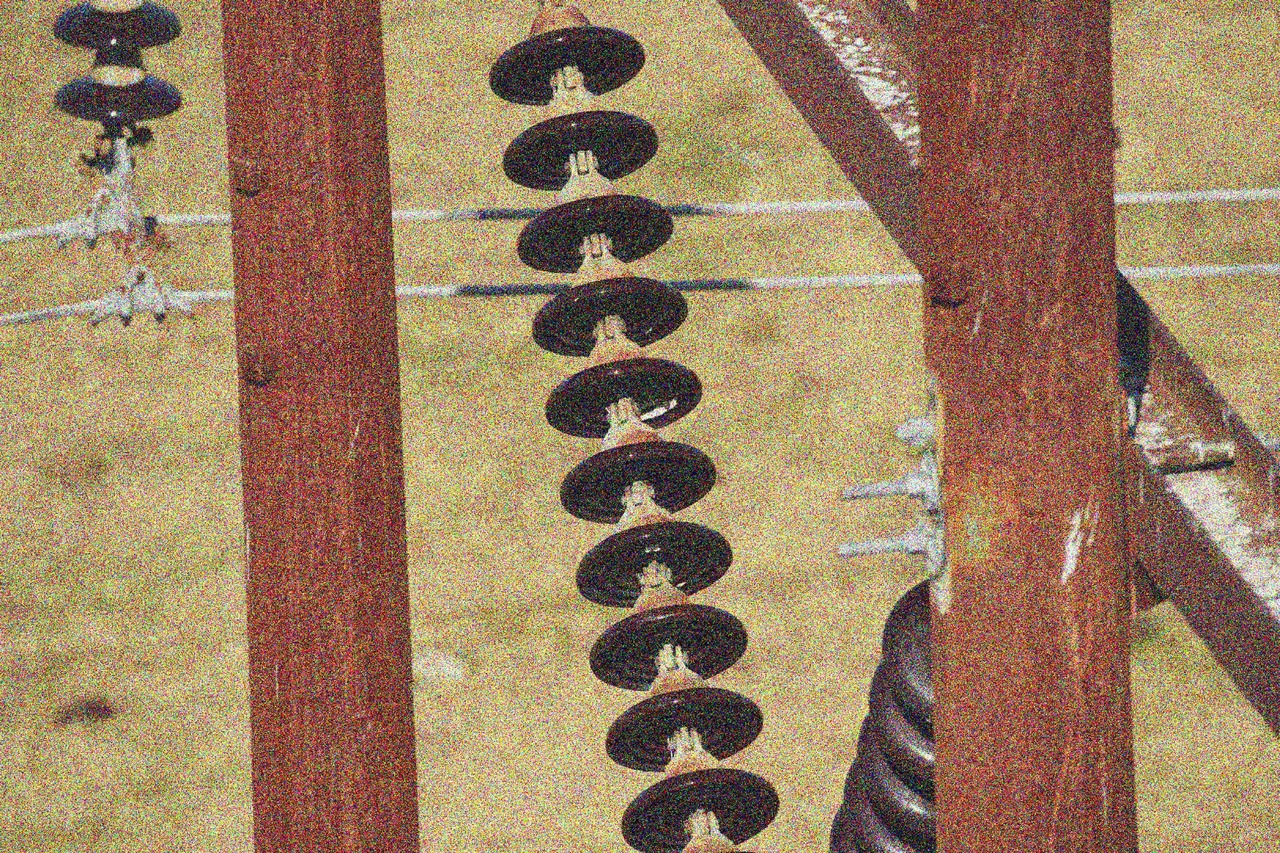Broken: (541, 333, 707, 439)
No issues: (478, 0, 654, 110), (493, 84, 669, 194), (507, 166, 683, 276), (593, 664, 768, 774), (614, 743, 789, 853), (568, 503, 744, 612), (579, 585, 755, 694), (524, 248, 699, 357), (554, 421, 729, 527), (51, 68, 183, 124), (49, 1, 182, 52)
String: (482, 1, 783, 853), (46, 0, 186, 137)
